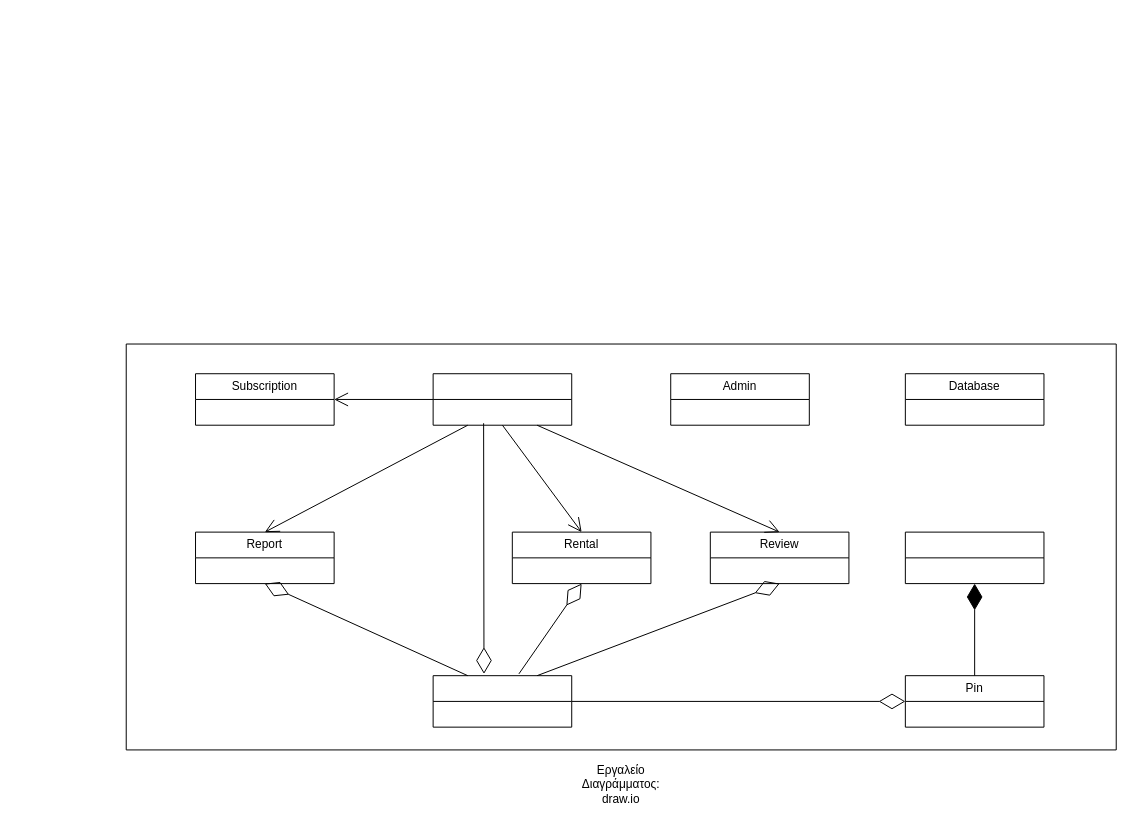
This 1135x823 diagram has some shape labels left out. Each missing label, with the box of its shape:
Map: (904, 531, 1044, 584)
StandardUser: (432, 373, 572, 425)
VehicleListing: (432, 675, 572, 727)
